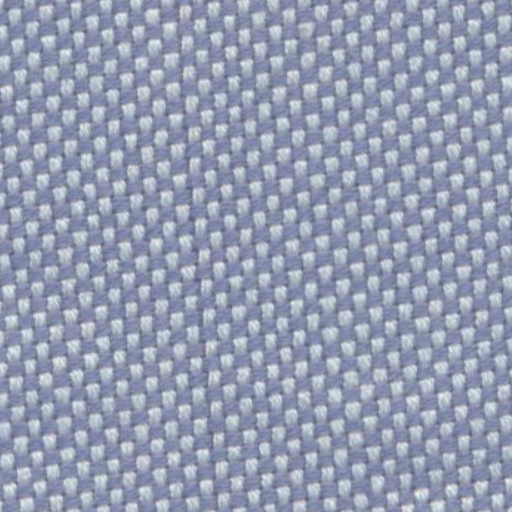TuoSha: (146, 26, 237, 502)
